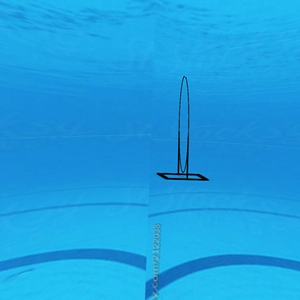circle: (154, 75, 214, 187)
